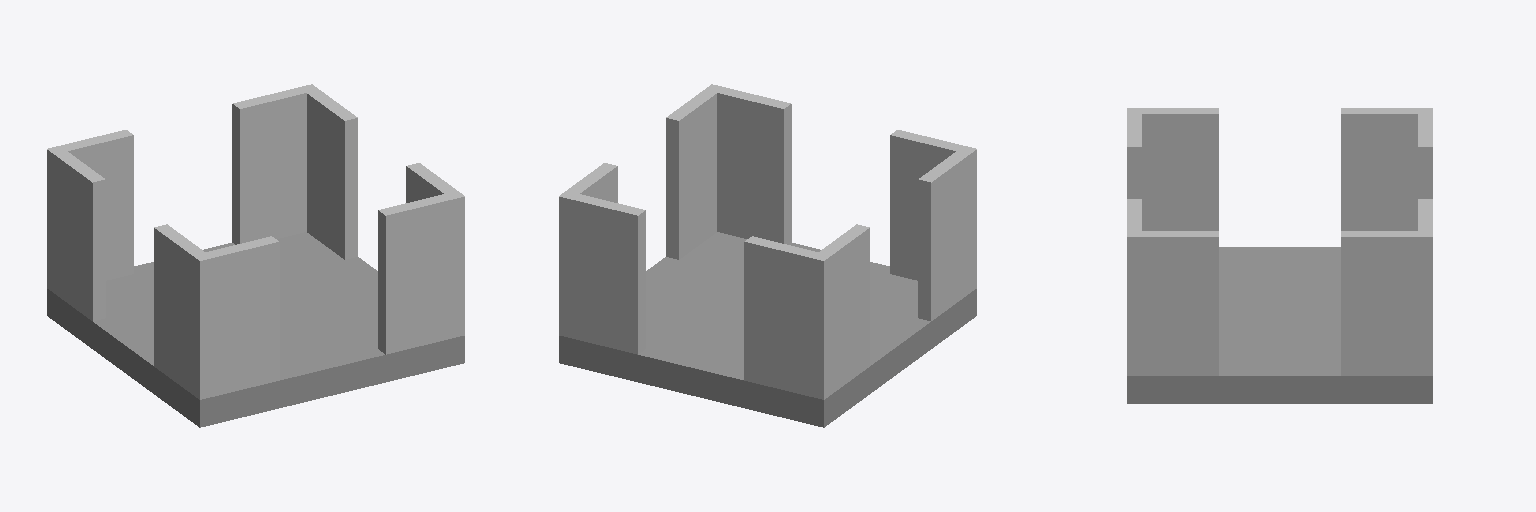
The model's file is big-room_4-exit_1.obj.
3 renders of one model, left to right at view 1: azimuth 30°, elevation 25°; view 2: azimuth 150°, elevation 25°; view 3: azimuth 270°, elevation 25°, orthographic.
Visible parts, largest first — view 1: Cube, Cube.007_Cube.008, Cube.001, Cube.002_Cube.007, Cube.006_Cube.002, Cube.008_Cube.009, Cube.005, Cube.003, Cube.004; view 2: Cube, Cube.001, Cube.007_Cube.008, Cube.003, Cube.008_Cube.009, Cube.006_Cube.002, Cube.004, Cube.002_Cube.007, Cube.005; view 3: Cube, Cube.005, Cube.004, Cube.006_Cube.002, Cube.008_Cube.009, Cube.007_Cube.008, Cube.002_Cube.007, Cube.003, Cube.001.
Part boxes in pixels (left/top/right/bottom): Cube: left=47, top=232, right=464, bottom=427; Cube.007_Cube.008: left=378, top=191, right=464, bottom=354; Cube.001: left=232, top=84, right=318, bottom=244; Cube.002_Cube.007: left=192, top=236, right=279, bottom=399; Cube.006_Cube.002: left=47, top=146, right=105, bottom=320; Cube.008_Cube.009: left=154, top=224, right=212, bottom=399; Cube.005: left=299, top=84, right=357, bottom=259; Cube.003: left=47, top=130, right=133, bottom=282; Cube.004: left=406, top=163, right=464, bottom=337; Cube: left=559, top=232, right=976, bottom=427; Cube.001: left=559, top=191, right=645, bottom=354; Cube.007_Cube.008: left=705, top=84, right=791, bottom=244; Cube.003: left=744, top=236, right=831, bottom=399; Cube.008_Cube.009: left=918, top=146, right=976, bottom=320; Cube.006_Cube.002: left=811, top=224, right=869, bottom=399; Cube.004: left=666, top=86, right=724, bottom=259; Cube.002_Cube.007: left=890, top=130, right=976, bottom=280; Cube.005: left=559, top=163, right=617, bottom=337; Cube: left=1127, top=247, right=1432, bottom=403; Cube.005: left=1341, top=231, right=1432, bottom=375; Cube.004: left=1127, top=231, right=1218, bottom=375; Cube.006_Cube.002: left=1341, top=108, right=1432, bottom=230; Cube.008_Cube.009: left=1127, top=108, right=1218, bottom=230; Cube.007_Cube.008: left=1127, top=199, right=1141, bottom=375; Cube.002_Cube.007: left=1127, top=108, right=1141, bottom=198; Cube.003: left=1418, top=108, right=1432, bottom=198; Cube.001: left=1418, top=199, right=1432, bottom=375.
Size of the model in its own units: 10 by 6 by 10.